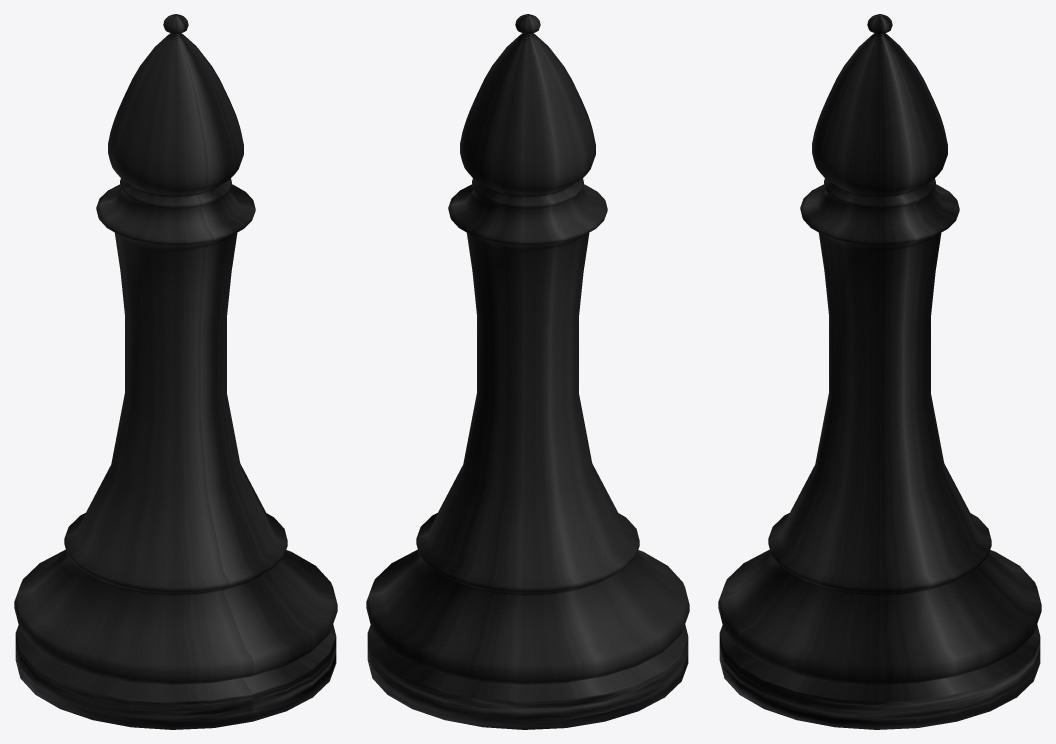
File: black_bishop.obj
3 views of the same model, side by side, from view 1: azimuth 30°, elevation 25°; view 2: azimuth 150°, elevation 25°; view 3: azimuth 270°, elevation 25° (orthographic).
Parts seen in each view (by area): view 1: Bishop.001_Cylinder.024; view 2: Bishop.001_Cylinder.024; view 3: Bishop.001_Cylinder.024.
Boxes of the visible parts, x1,y1,x2,y2 form: Bishop.001_Cylinder.024: [14, 14, 337, 729]; Bishop.001_Cylinder.024: [366, 14, 689, 729]; Bishop.001_Cylinder.024: [718, 14, 1041, 729].
Size of the model in its own units: 1.51 by 3.34 by 1.51.
